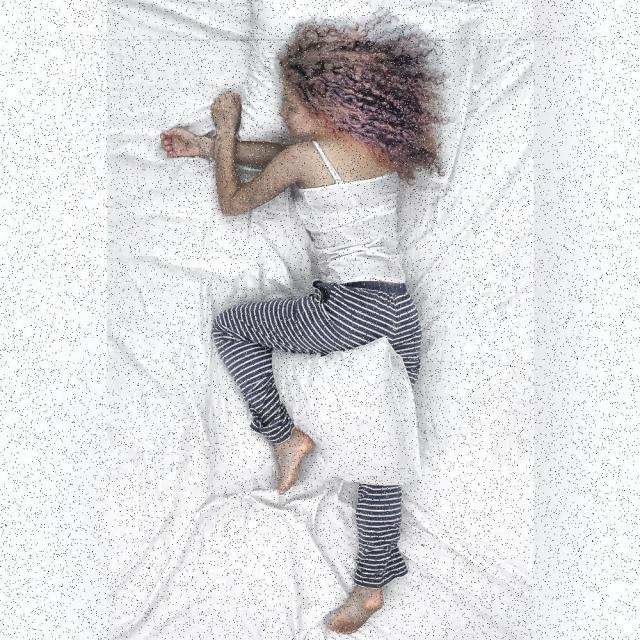Not_Supine: (161, 25, 438, 492), (329, 501, 405, 632)
